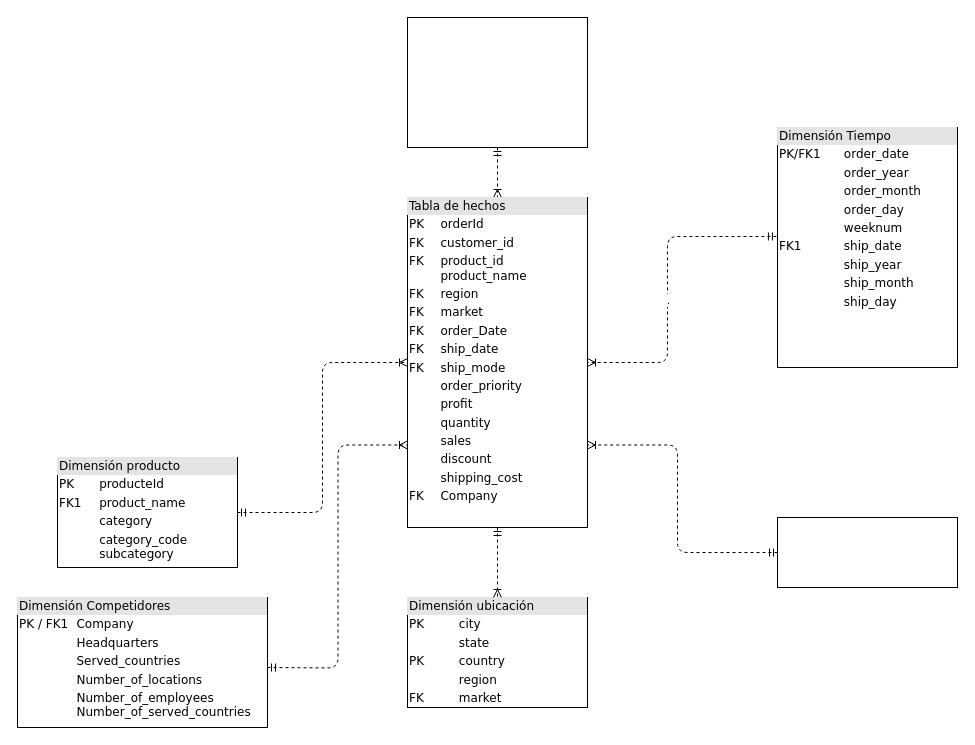
Some shapes in this 975 by 745 pixel diagram are drawn without their labels. Here are the shapes that lost their labels. From the top down, the centre of each, then its label:
pixel 497 82: Dimensión cliente PK/FK customerId customer_name city state country region
pixel 867 552: Dimensión Envío PK ship_mode FK1 shipping_cost
